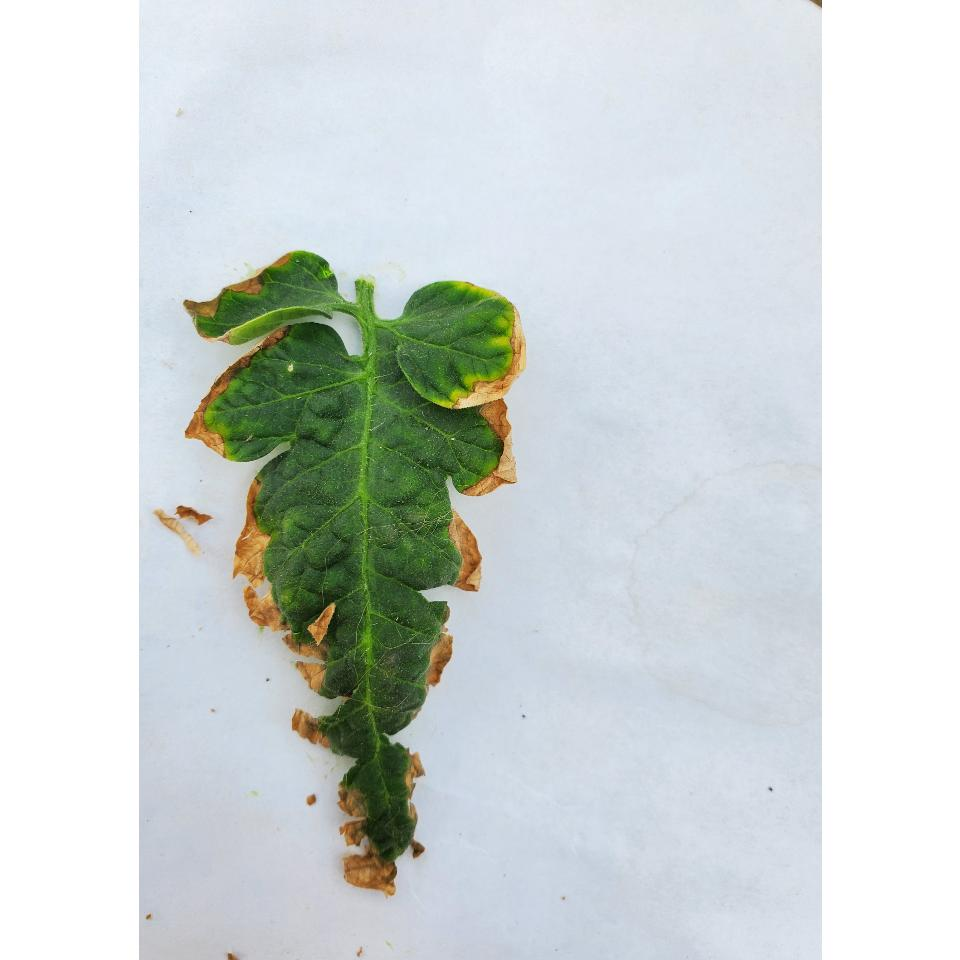tomato_bacterial_blight: (190, 262, 536, 897)
